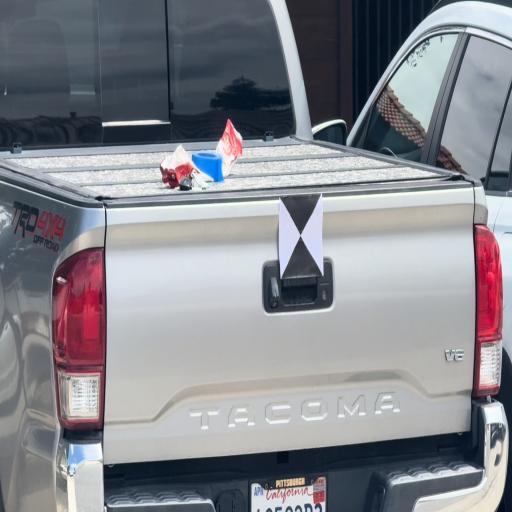target: (280, 198, 323, 276)
